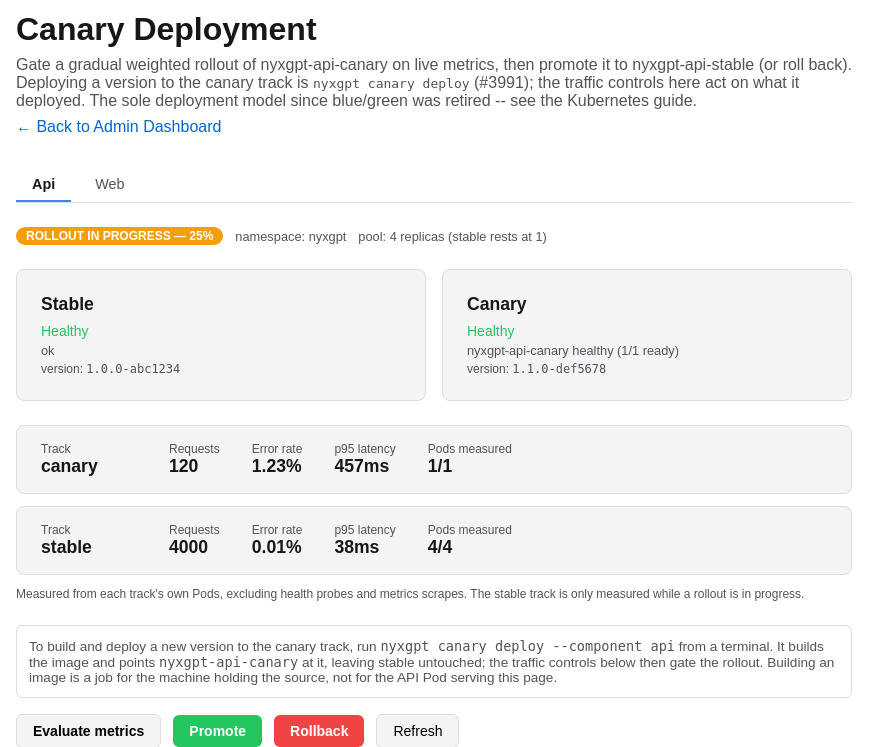
Test case: CanaryPage › withholds the override when the canary has served traffic or cannot be measured
This screenshot has width=869, height=747.
Expected: the button "Promote" is shown, 173,715 -> 262,746
Click the button "Refresh" at (418, 731), box 376,714 -> 460,746
(page scrolled)
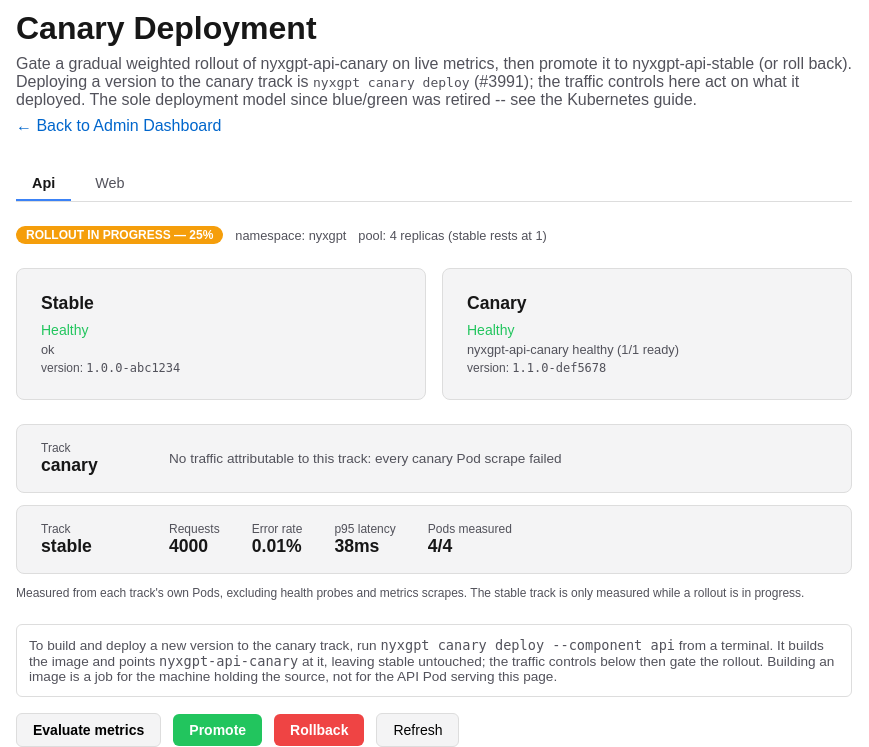
Expected: the text "No traffic attributable to this track: every canary Pod scrape failed" is shown, 169,451 -> 562,466
